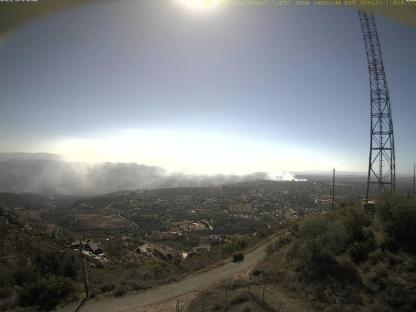smoke: (23, 152, 309, 198)
